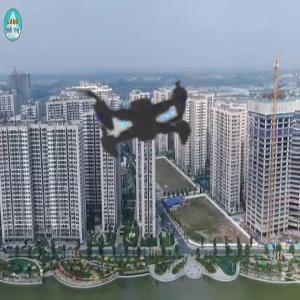drone: (30, 2, 271, 243)
